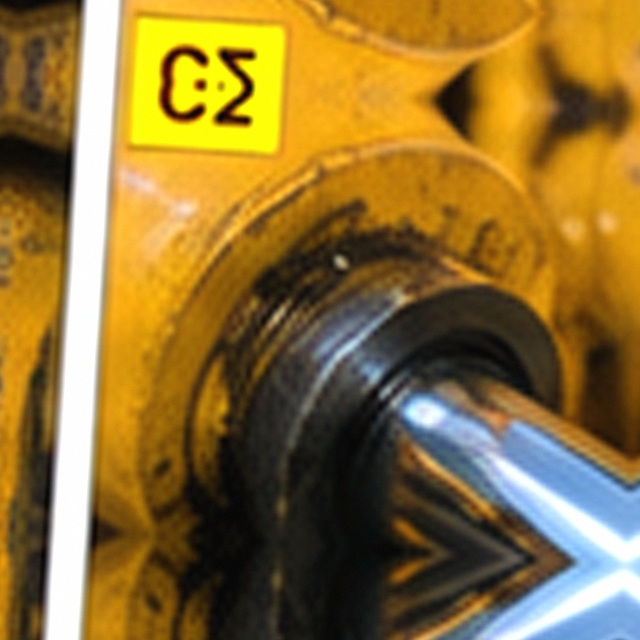hydraulic_oil_leak: (163, 195, 448, 443)
